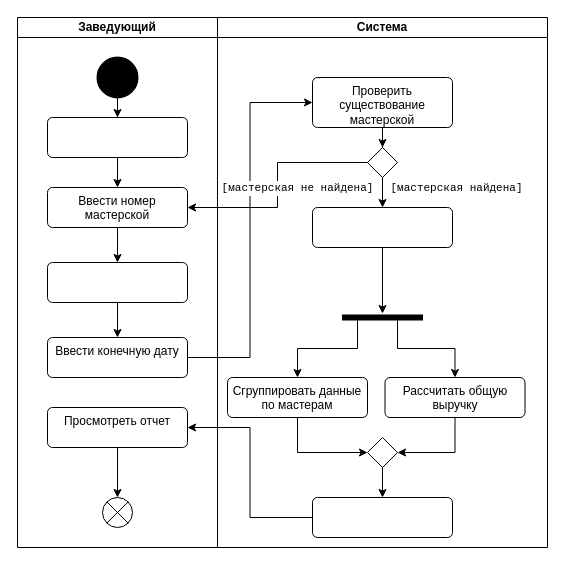
This 565x565 diagram has some shape labels left out. Each missing label, with the centre of its shape:
Ввести начальную дату: [117,282]
Выбрать пункт "Отчет по мастерской": [117,137]
Выполнить запрос к БД: [382,227]
Сформировать отчет: [382,517]
